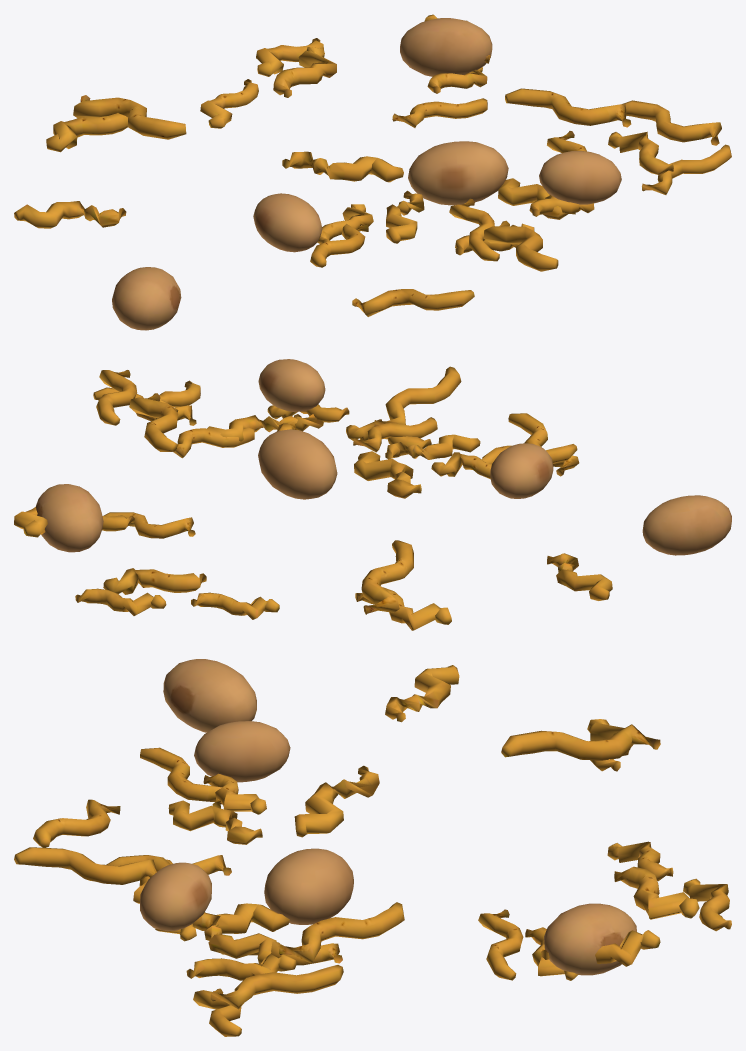
File: crunch_namkeen.glb
The picture shows the model from 3 angles, top to bottom: view 1: azimuth 30°, elevation 25°; view 2: azimuth 150°, elevation 25°; view 3: azimuth 270°, elevation 25°; orthographic projection. The views are drawn at different scales.
Parts seen in each view (by area): view 1: EX_Crunch_namkeen_piece30, EX_Crunch_namkeen_piece06, EX_Crunch_namkeen_piece24, EX_Crunch_namkeen_piece12, EX_Crunch_namkeen_piece18, EX_Crunch_namkeen_piece17, EX_Crunch_namkeen_piece05, EX_Crunch_namkeen_piece27, EX_Crunch_namkeen_piece11, EX_Crunch_namkeen_piece29, EX_Crunch_namkeen_piece09, EX_Crunch_namkeen_piece26 (+15 smaller); view 2: EX_Crunch_namkeen_piece30, EX_Crunch_namkeen_piece12, EX_Crunch_namkeen_piece06, EX_Crunch_namkeen_piece18, EX_Crunch_namkeen_piece24, EX_Crunch_namkeen_piece17, EX_Crunch_namkeen_piece07, EX_Crunch_namkeen_piece27, EX_Crunch_namkeen_piece26, EX_Crunch_namkeen_piece05, EX_Crunch_namkeen_piece09, EX_Crunch_namkeen_piece29 (+16 smaller); view 3: EX_Crunch_namkeen_piece30, EX_Crunch_namkeen_piece12, EX_Crunch_namkeen_piece06, EX_Crunch_namkeen_piece18, EX_Crunch_namkeen_piece24, EX_Crunch_namkeen_piece17, EX_Crunch_namkeen_piece26, EX_Crunch_namkeen_piece05, EX_Crunch_namkeen_piece27, EX_Crunch_namkeen_piece29, EX_Crunch_namkeen_piece07, EX_Crunch_namkeen_piece09 (+16 smaller).
Part boxes in pixels (box(x1,y1,x2,y2)): EX_Crunch_namkeen_piece30: box(408, 141, 508, 205); EX_Crunch_namkeen_piece06: box(400, 18, 492, 76); EX_Crunch_namkeen_piece24: box(539, 151, 621, 204); EX_Crunch_namkeen_piece12: box(112, 267, 181, 330); EX_Crunch_namkeen_piece18: box(253, 193, 322, 252); EX_Crunch_namkeen_piece17: box(73, 95, 186, 139); EX_Crunch_namkeen_piece05: box(505, 88, 631, 127); EX_Crunch_namkeen_piece27: box(282, 151, 403, 182); EX_Crunch_namkeen_piece11: box(352, 289, 474, 316); EX_Crunch_namkeen_piece29: box(622, 100, 721, 145); EX_Crunch_namkeen_piece09: box(14, 201, 126, 228); EX_Crunch_namkeen_piece26: box(483, 220, 558, 271); EX_Crunch_namkeen_piece30: box(258, 429, 337, 499); EX_Crunch_namkeen_piece12: box(642, 495, 731, 555); EX_Crunch_namkeen_piece06: box(36, 484, 103, 552); EX_Crunch_namkeen_piece18: box(490, 443, 553, 498); EX_Crunch_namkeen_piece24: box(258, 359, 325, 411); EX_Crunch_namkeen_piece17: box(361, 540, 413, 614); EX_Crunch_namkeen_piece07: box(103, 568, 206, 594); EX_Crunch_namkeen_piece27: box(354, 451, 421, 498); EX_Crunch_namkeen_piece26: box(374, 366, 461, 426); EX_Crunch_namkeen_piece05: box(129, 393, 178, 451); EX_Crunch_namkeen_piece09: box(547, 553, 612, 600); EX_Crunch_namkeen_piece29: box(96, 370, 137, 425); EX_Crunch_namkeen_piece30: box(264, 848, 353, 924); EX_Crunch_namkeen_piece12: box(163, 659, 256, 732); EX_Crunch_namkeen_piece06: box(544, 903, 636, 975); EX_Crunch_namkeen_piece18: box(194, 721, 290, 782); EX_Crunch_namkeen_piece24: box(140, 862, 211, 931); EX_Crunch_namkeen_piece17: box(501, 724, 660, 760); EX_Crunch_namkeen_piece26: box(14, 847, 157, 884); EX_Crunch_namkeen_piece05: box(279, 902, 404, 963); EX_Crunch_namkeen_piece27: box(294, 765, 379, 837); EX_Crunch_namkeen_piece29: box(210, 965, 343, 1009); EX_Crunch_namkeen_piece07: box(614, 866, 699, 919); EX_Crunch_namkeen_piece09: box(385, 665, 459, 722).
Bounding box in the file's own units: 0.0637 × 0.0077 × 0.0548.
Materials: 30 (30 with a texture image).
